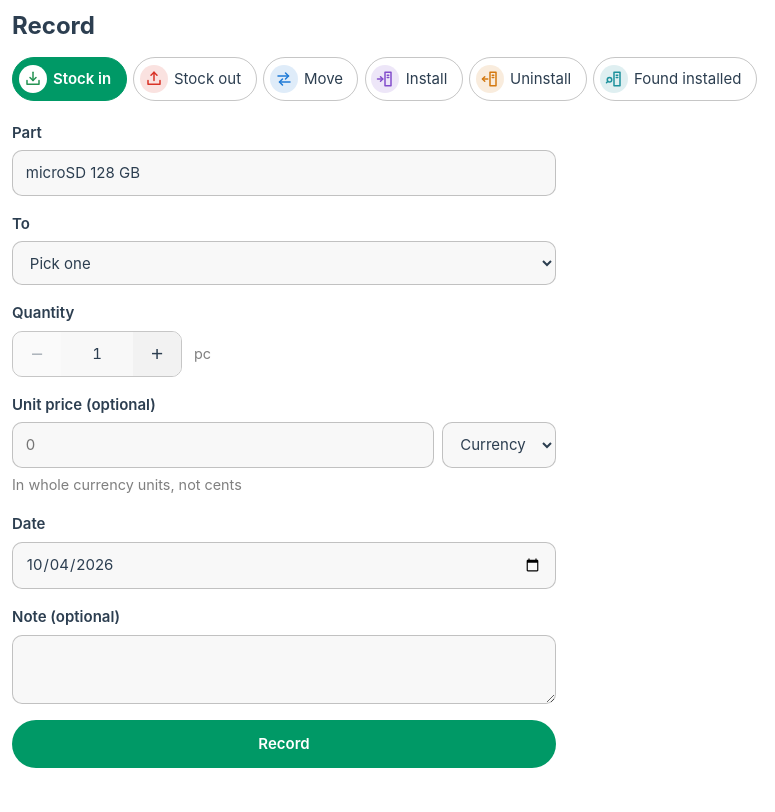
Scenario: Record: fields per type (spec §4.7 table) › uninstall
Click the radio button labelled "Uninstall" at (528, 79), box [469,57,587,101]
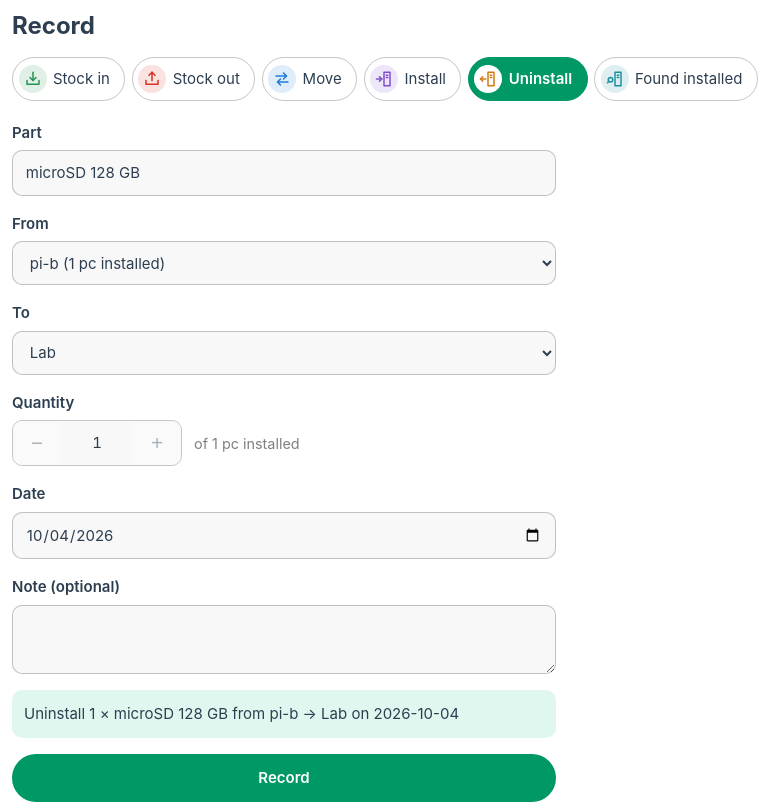
expect the dropdown with id "rec-to" is shown: met, box [12,331,556,375]
expect the dropdown with id "rec-from" is shown: met, box [12,241,556,285]
